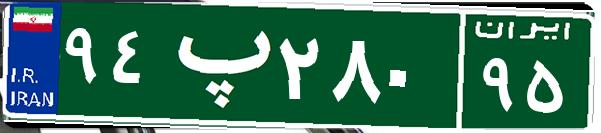0: (385, 28, 445, 110)
2: (273, 28, 330, 110)
4: (110, 28, 158, 105)
5: (525, 38, 570, 115)
8: (330, 28, 385, 110)
9: (57, 26, 110, 107), (475, 38, 525, 113)
پ: (158, 15, 273, 115)
